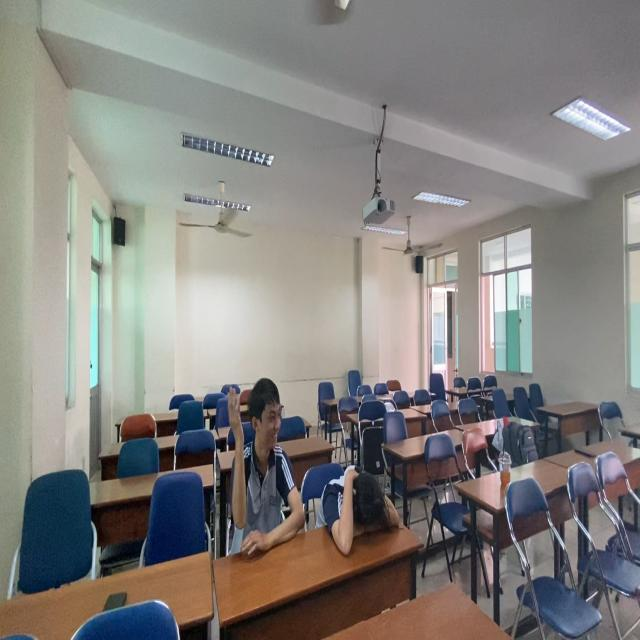raise_hand: (218, 367, 299, 561)
sleep: (316, 458, 405, 564)
